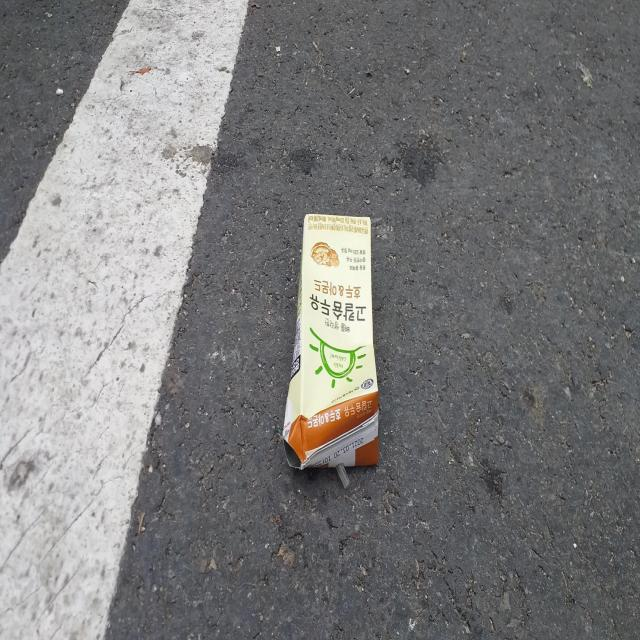paperpack: (282, 213, 378, 469)
